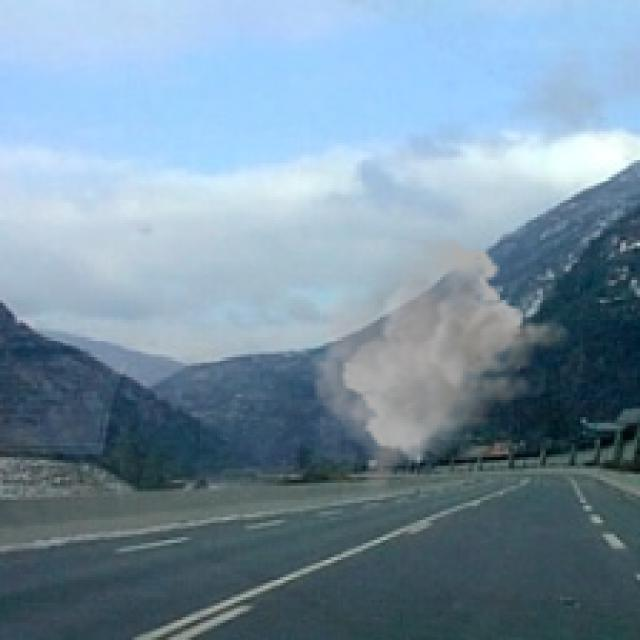Smoke: (306, 235, 574, 494)
